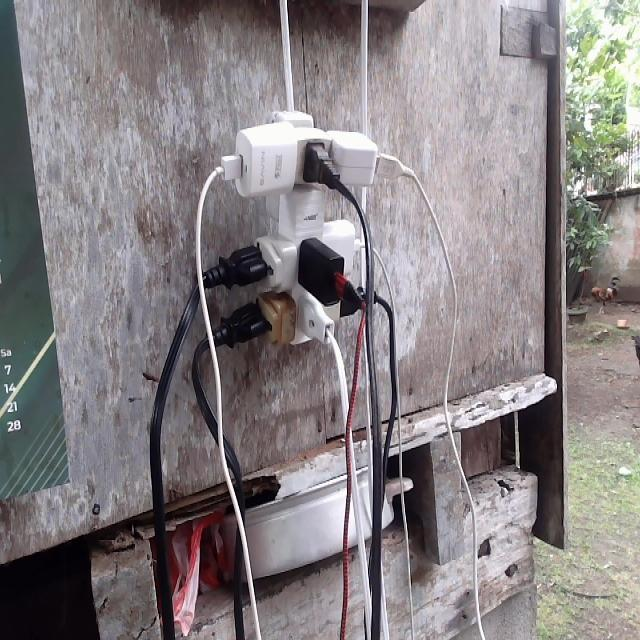-: (203, 101, 392, 351)
